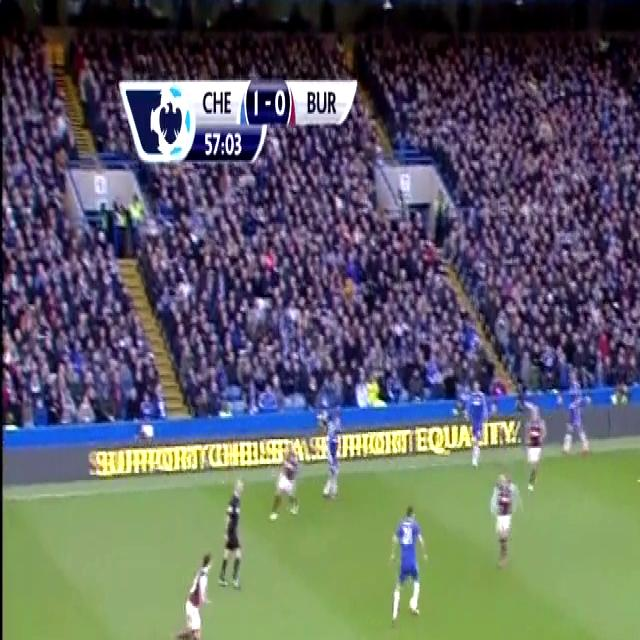referee: (216, 472, 248, 596)
soccer-player: (387, 498, 435, 631), (165, 542, 213, 640), (483, 462, 518, 574), (270, 432, 304, 526), (560, 377, 593, 463), (464, 377, 494, 471), (523, 398, 551, 497), (322, 409, 348, 506), (637, 388, 640, 496)
